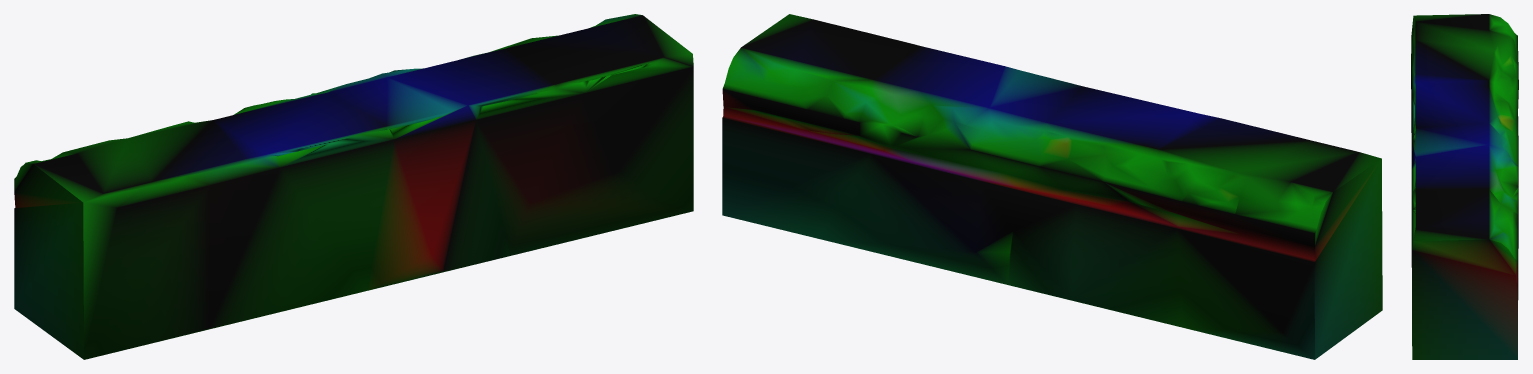
File: SM_BoardKerb_L2.glb
The picture shows the model from 3 angles, left to right: view 1: azimuth 30°, elevation 25°; view 2: azimuth 150°, elevation 25°; view 3: azimuth 270°, elevation 25°; orthographic projection. The views are drawn at different scales.
Visible parts, largest first — view 1: SM_BoardKerb; view 2: SM_BoardKerb; view 3: SM_BoardKerb.
Boxes of the visible parts, <box> form: SM_BoardKerb: <box>14,14,693,359</box>; SM_BoardKerb: <box>722,14,1382,359</box>; SM_BoardKerb: <box>1411,14,1518,359</box>.
Size of the model in its own units: 2 by 0.5014 by 0.4046.
